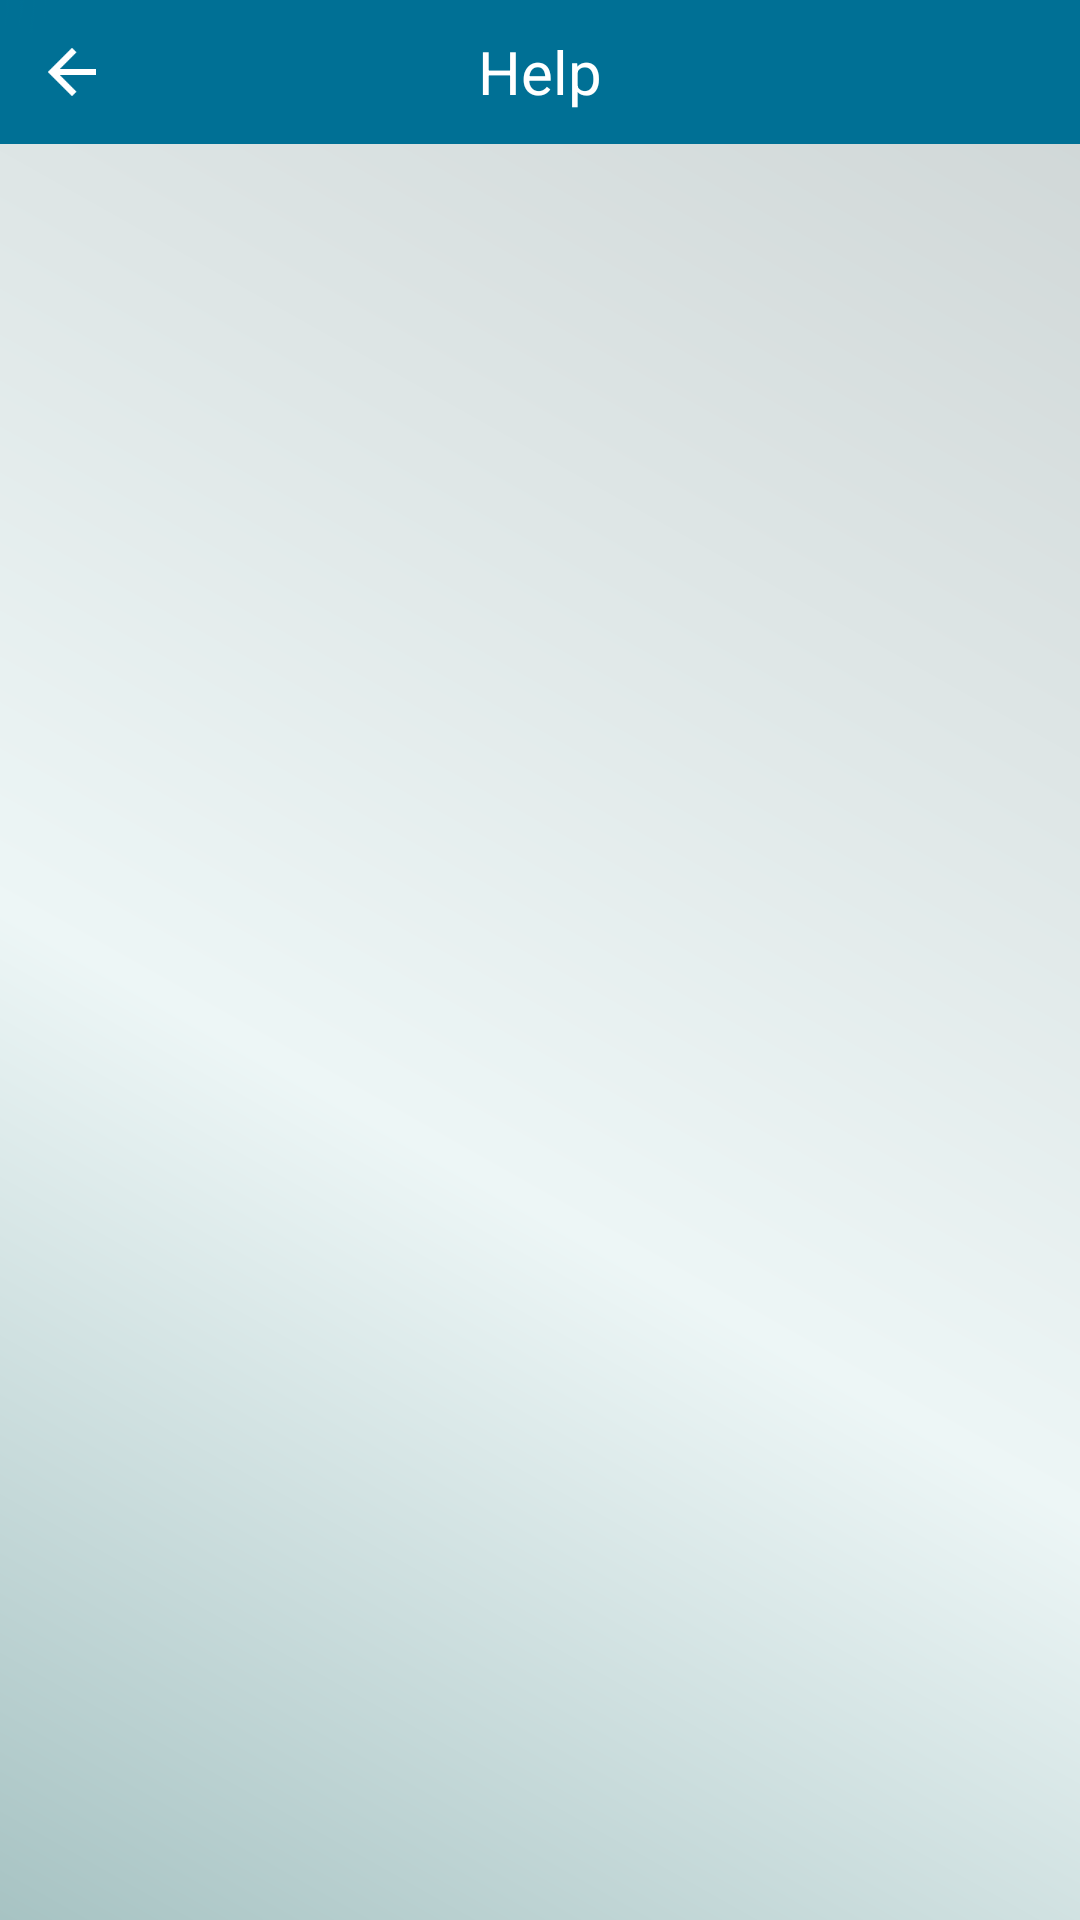

Point at icon controls on the screen. Image size 1080 x 1920, points as point (x, y).
Back: point (72, 72)
